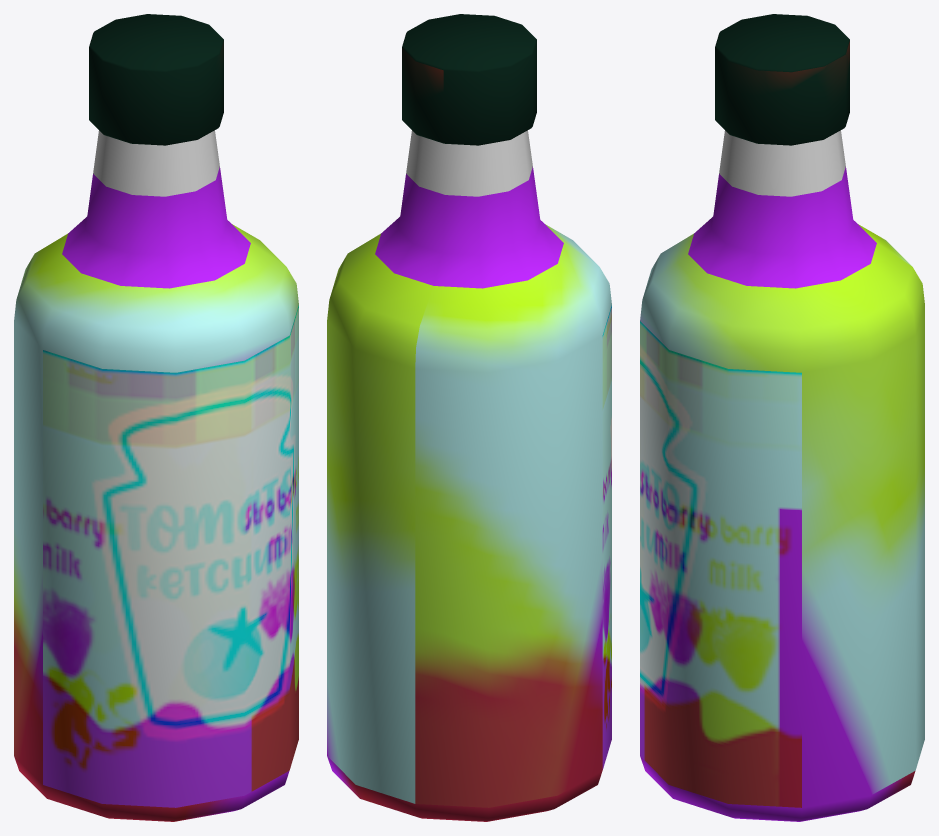
The model's file is Ketchup_Bottle.fbx.
3 renders of one model, left to right at view 1: azimuth 30°, elevation 25°; view 2: azimuth 150°, elevation 25°; view 3: azimuth 270°, elevation 25°, orthographic.
Parts seen in each view (by area): view 1: Ketchup_Bottle._HP; view 2: Ketchup_Bottle._HP; view 3: Ketchup_Bottle._HP.
Part boxes in pixels (x1,y1,x2,y2): Ketchup_Bottle._HP: (14, 14, 298, 821); Ketchup_Bottle._HP: (327, 14, 611, 821); Ketchup_Bottle._HP: (640, 14, 924, 821).
Bounding box in the file's own units: 0.1499 × 0.4221 × 0.1499.
